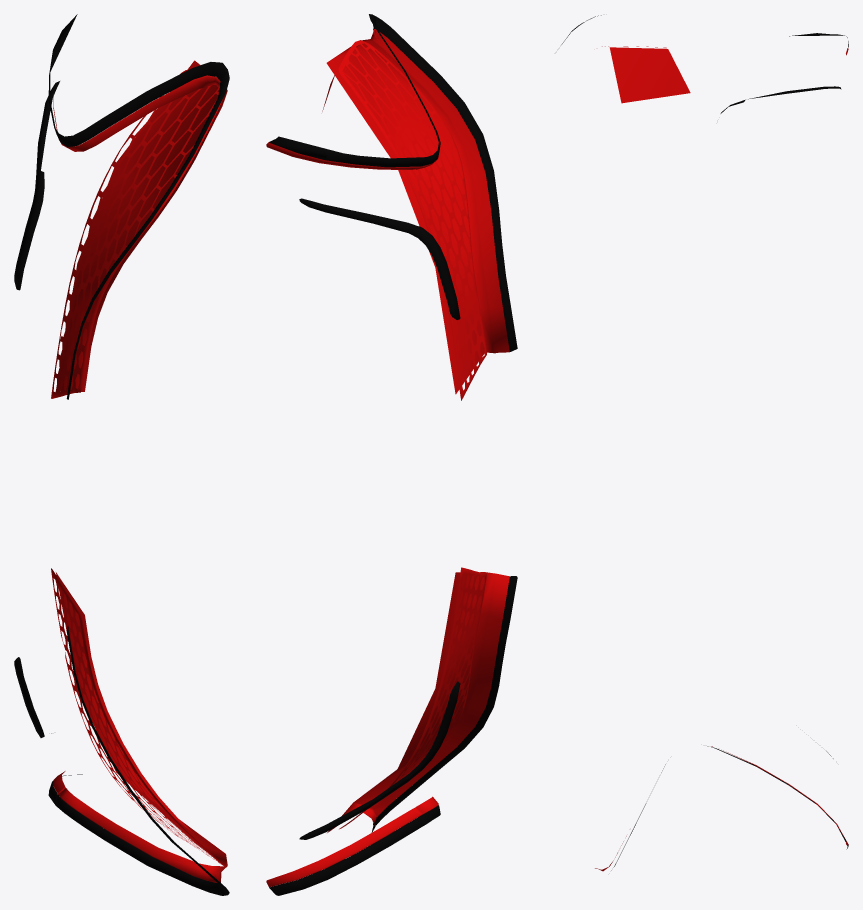
The model's file is backlights1.glb.
3 views of the same model, side by side, from view 1: azimuth 30°, elevation 25°; view 2: azimuth 150°, elevation 25°; view 3: azimuth 270°, elevation 25° (orthographic). The views are drawn at different scales.
Parts seen in each view (by area): view 1: shadeRed; view 2: shadeRed; view 3: shadeRed.
Boxes of the visible parts, box(x1,y1,x2,y2) form: shadeRed: box(14, 14, 229, 895); shadeRed: box(266, 14, 517, 895); shadeRed: box(561, 15, 848, 871).
Size of the model in its own units: 0.2037 by 0.8979 by 0.28.
